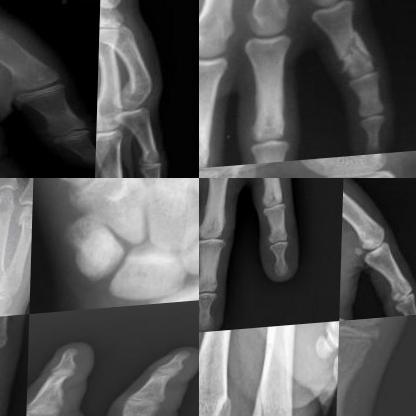fracture: (333, 31, 379, 80), (118, 72, 163, 112), (251, 369, 285, 415), (15, 208, 32, 242)
